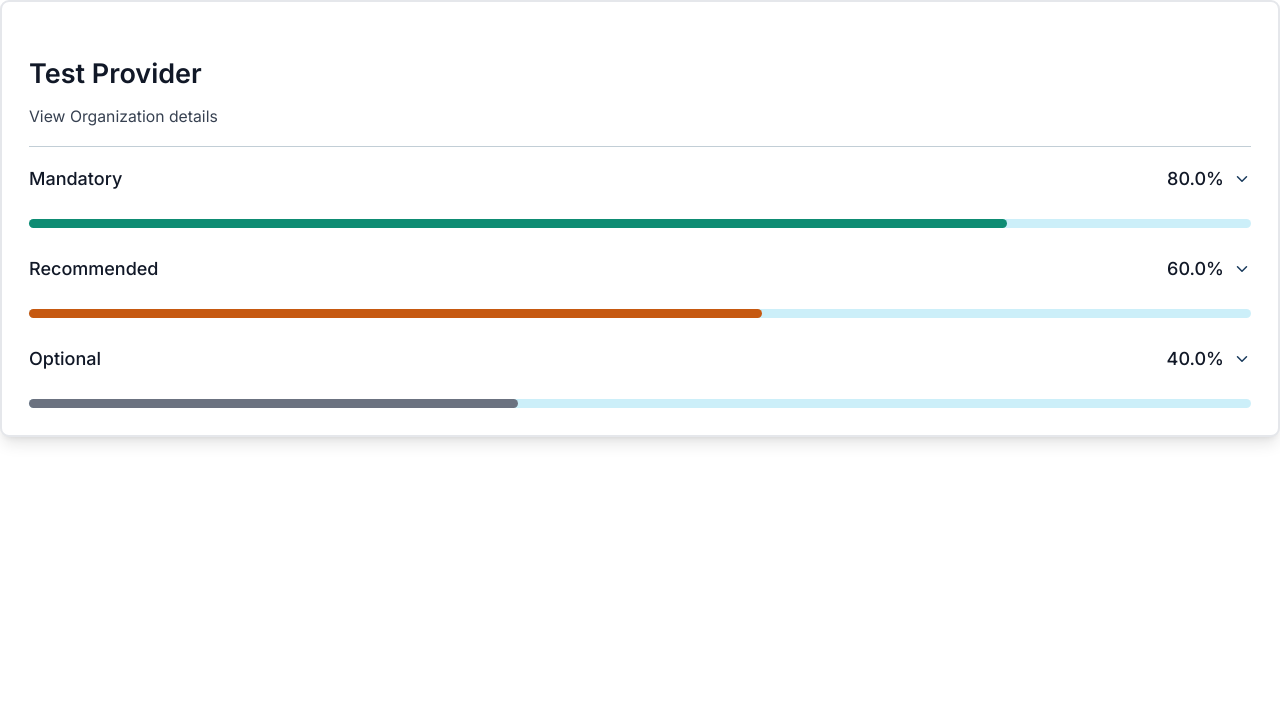
Test case: ComparisonCard › Field Display › displays field details when section is expanded
// Expand mandatory section
Click the button "mandatory 80.0%" at (76, 178), box [29, 165, 1251, 228]
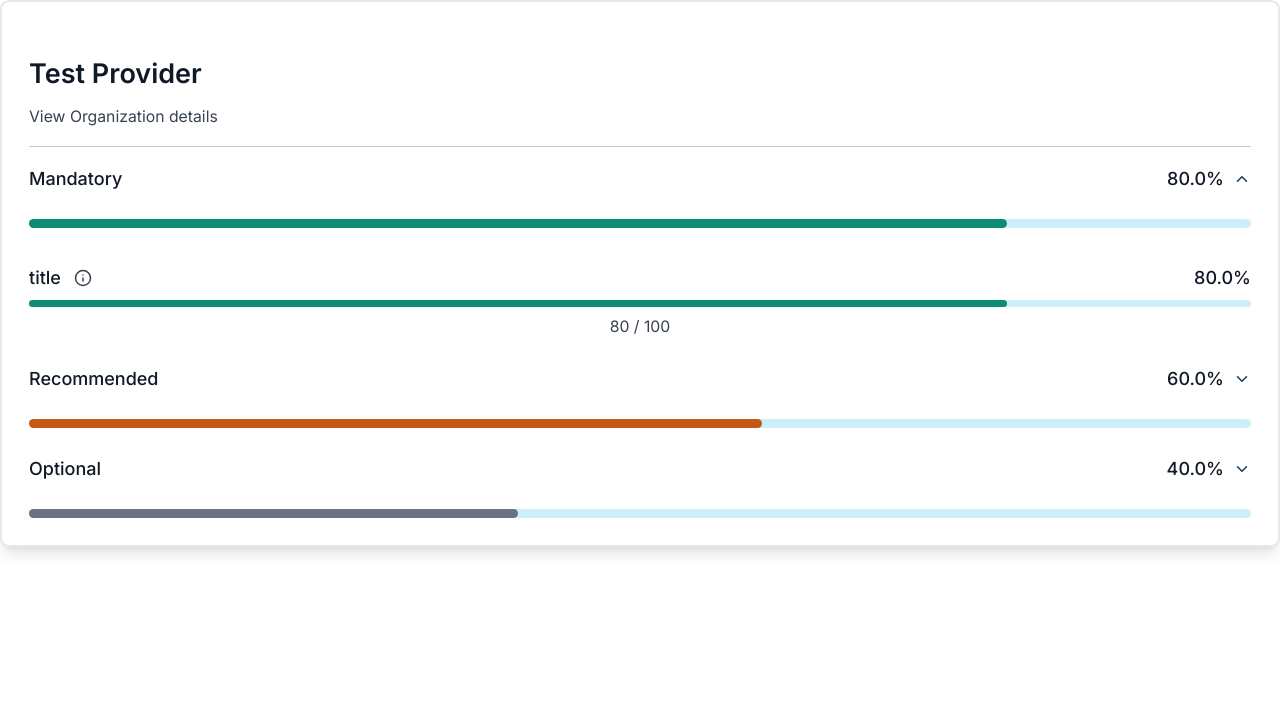
Expected: the text named "Completeness: 80.0%" is shown, [1167, 165, 1224, 192]
Result: the text "title" is shown at [29, 264, 61, 291]
Result: the text "80 / 100" is shown at [610, 316, 670, 338]
